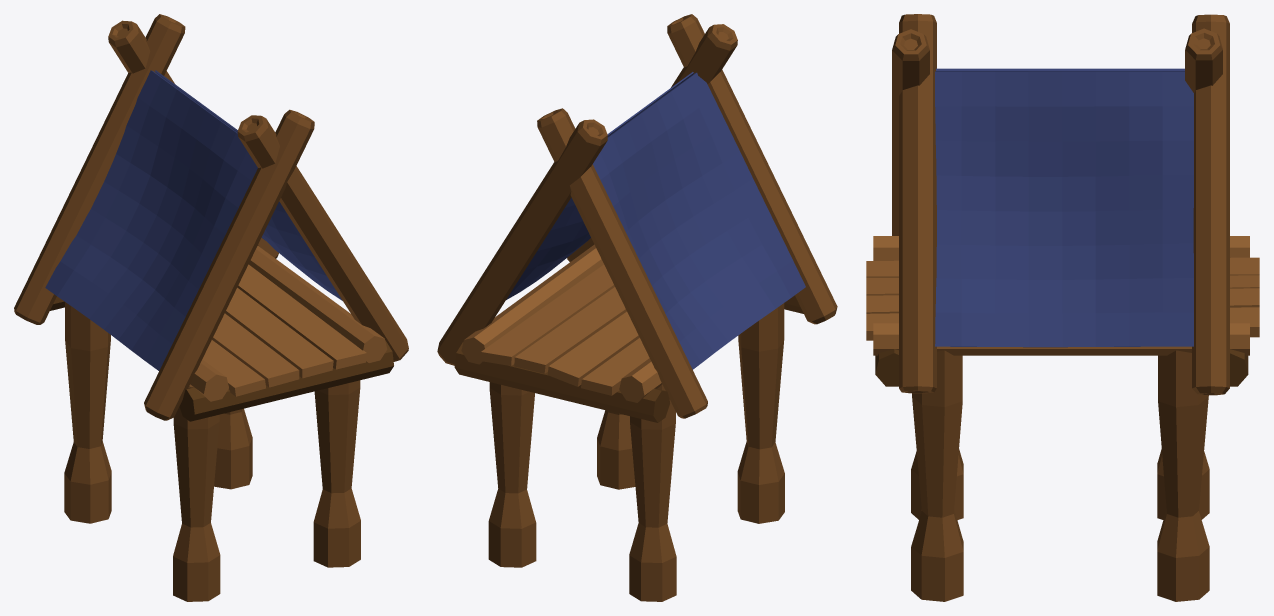
Rendered from B_A_TowerBlue.fbx.
3 renders of one model, left to right at view 1: azimuth 30°, elevation 25°; view 2: azimuth 150°, elevation 25°; view 3: azimuth 270°, elevation 25°, orthographic. The views are drawn at different scales.
Parts seen in each view (by area): view 1: B_A_TowerBlue; view 2: B_A_TowerBlue; view 3: B_A_TowerBlue.
Boxes of the visible parts, x1,y1,x2,y2 form: B_A_TowerBlue: (14, 14, 408, 601); B_A_TowerBlue: (437, 14, 837, 601); B_A_TowerBlue: (866, 14, 1259, 601).
Size of the model in its own units: 345 by 585 by 394.
